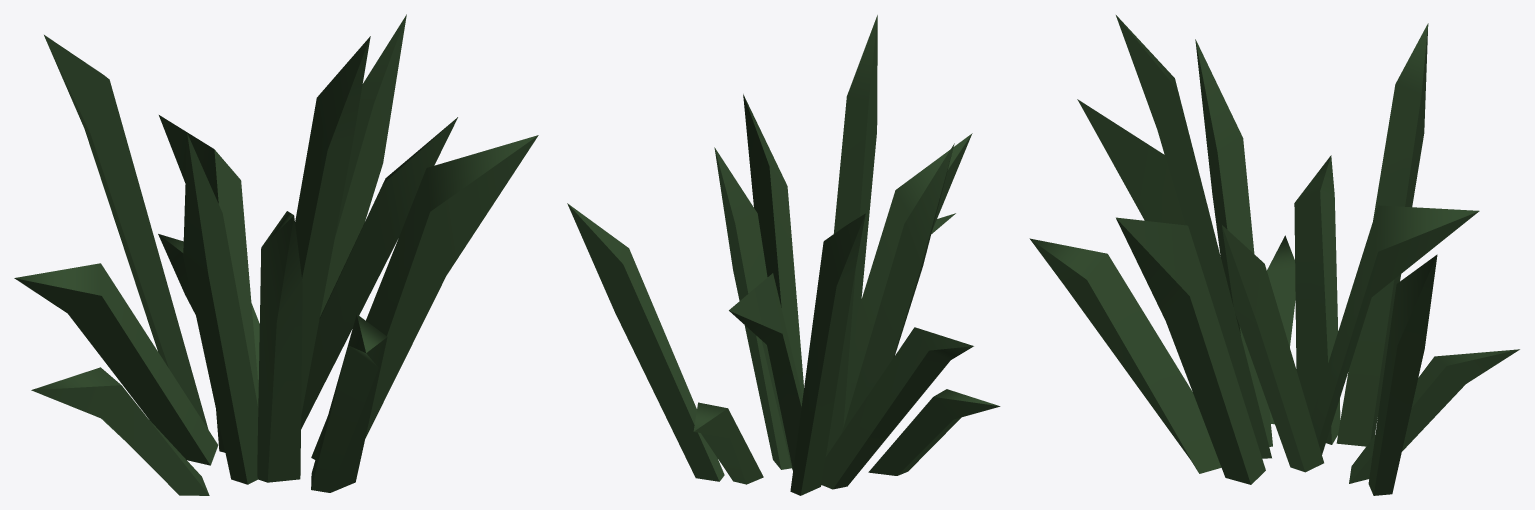
Rendered from SM_Env_Reeds_03.fbx.
3 views of the same model, side by side, from view 1: azimuth 30°, elevation 25°; view 2: azimuth 150°, elevation 25°; view 3: azimuth 270°, elevation 25° (orthographic). The views are drawn at different scales.
Visible parts, largest first — view 1: SM_Env_Reeds_03; view 2: SM_Env_Reeds_03; view 3: SM_Env_Reeds_03.
Boxes of the visible parts, <box> form: SM_Env_Reeds_03: <box>14,14,538,495</box>; SM_Env_Reeds_03: <box>567,15,1000,495</box>; SM_Env_Reeds_03: <box>1029,15,1519,495</box>.
Bounding box in the file's own units: 0.00995 × 0.0101 × 0.0101.
1 material, 1 textured.
